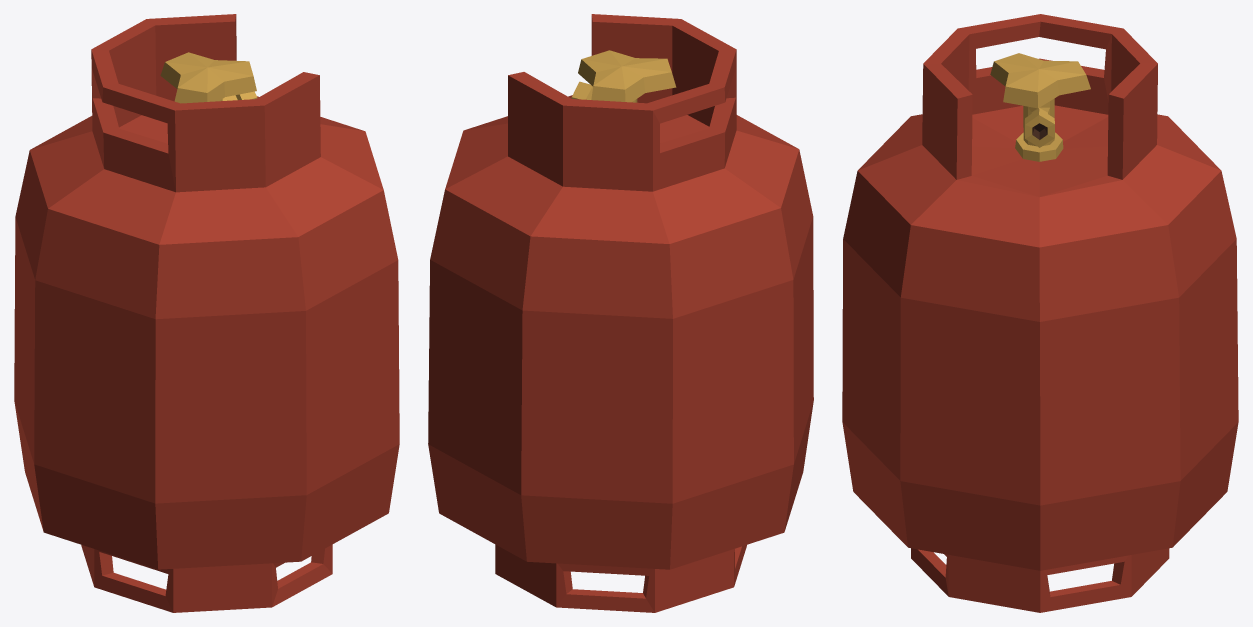
Rendered from SM_Prop_Propanel_02.fbx.
3 renders of one model, left to right at view 1: azimuth 30°, elevation 25°; view 2: azimuth 150°, elevation 25°; view 3: azimuth 270°, elevation 25°, orthographic.
Visible parts, largest first — view 1: SM_Prop_Propanel_02; view 2: SM_Prop_Propanel_02; view 3: SM_Prop_Propanel_02.
Part boxes in pixels (bbox=[...]): SM_Prop_Propanel_02: bbox=[14, 14, 399, 612]; SM_Prop_Propanel_02: bbox=[428, 14, 813, 612]; SM_Prop_Propanel_02: bbox=[842, 14, 1238, 612].
Bounding box in the file's own units: 33.77 × 46.48 × 33.77.
